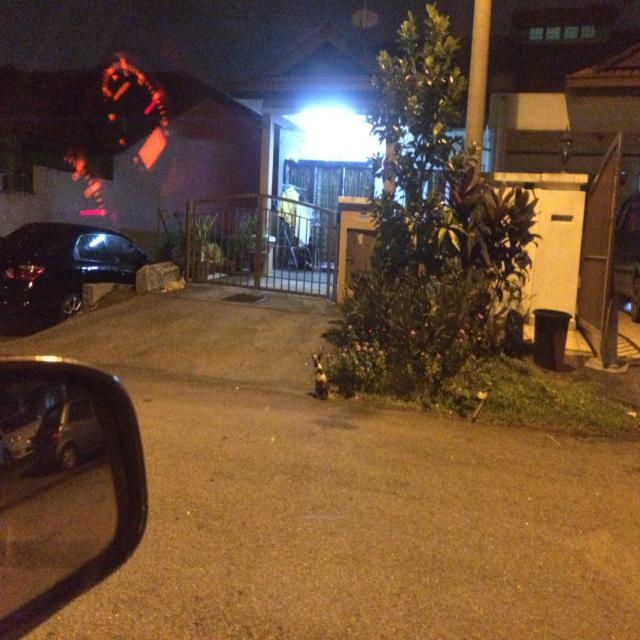Cat: (303, 341, 335, 399)
car: (1, 196, 167, 331), (37, 396, 117, 469), (606, 185, 640, 335), (1, 406, 41, 478)
